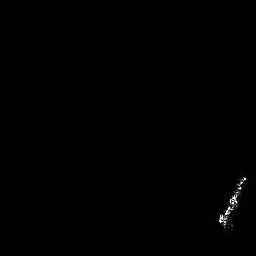ship: (214, 173, 251, 233)
